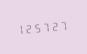five: (34, 20, 41, 34)
one: (17, 22, 24, 35)
seven: (58, 18, 65, 32), (42, 20, 49, 33)
two: (25, 21, 32, 34), (50, 19, 57, 32)
